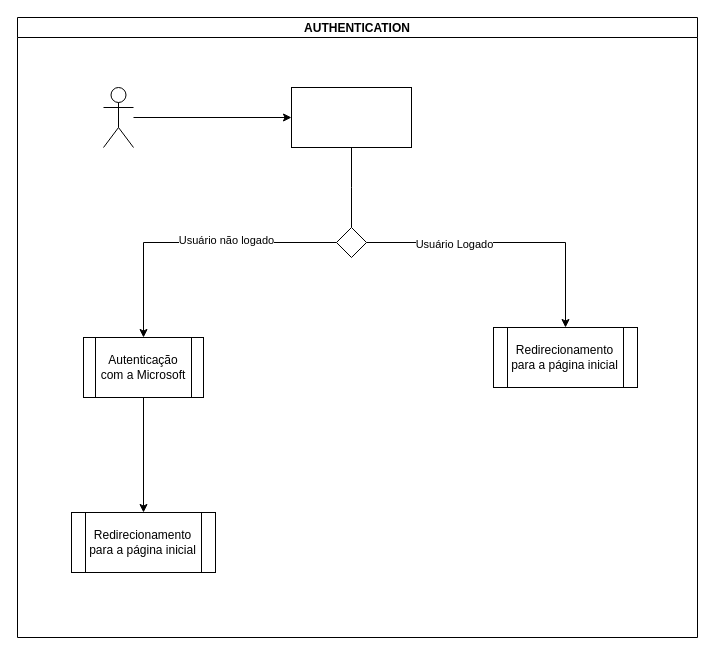
Some shapes in this 715 by 655 pixel diagram are drawn without their labels. Each missing label, with the centre of its shape:
HTTP://APP: the point at 351,117
Usuário: the point at 118,117
